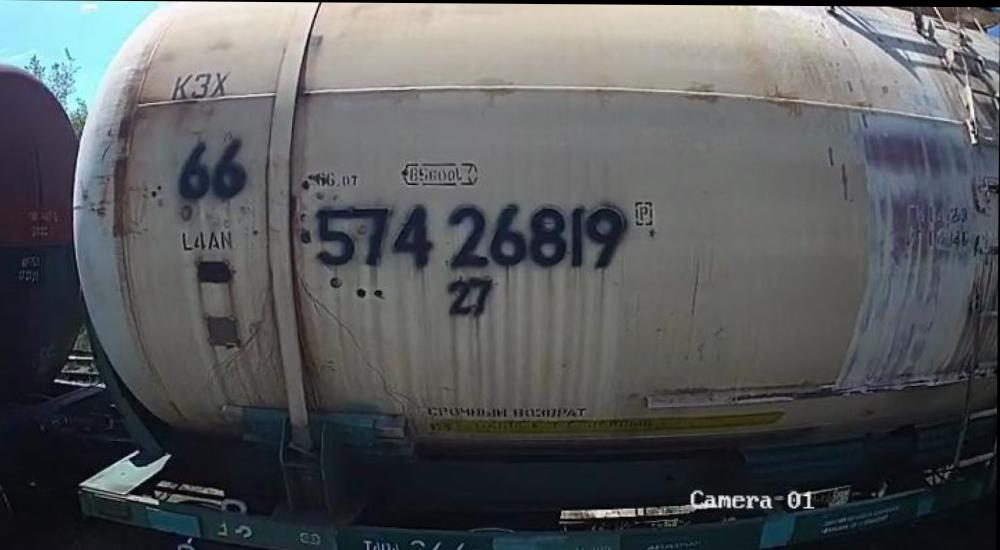Wagon-number: (312, 202, 631, 273)
